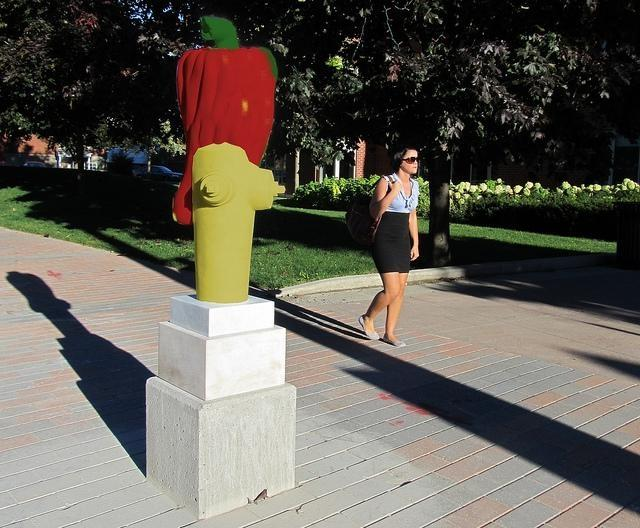car: (134, 166, 182, 182), (19, 160, 48, 166)
